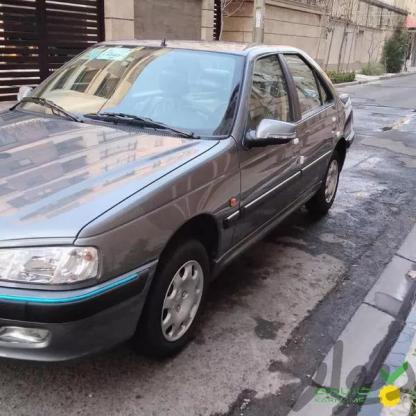Car: (0, 38, 360, 367)
